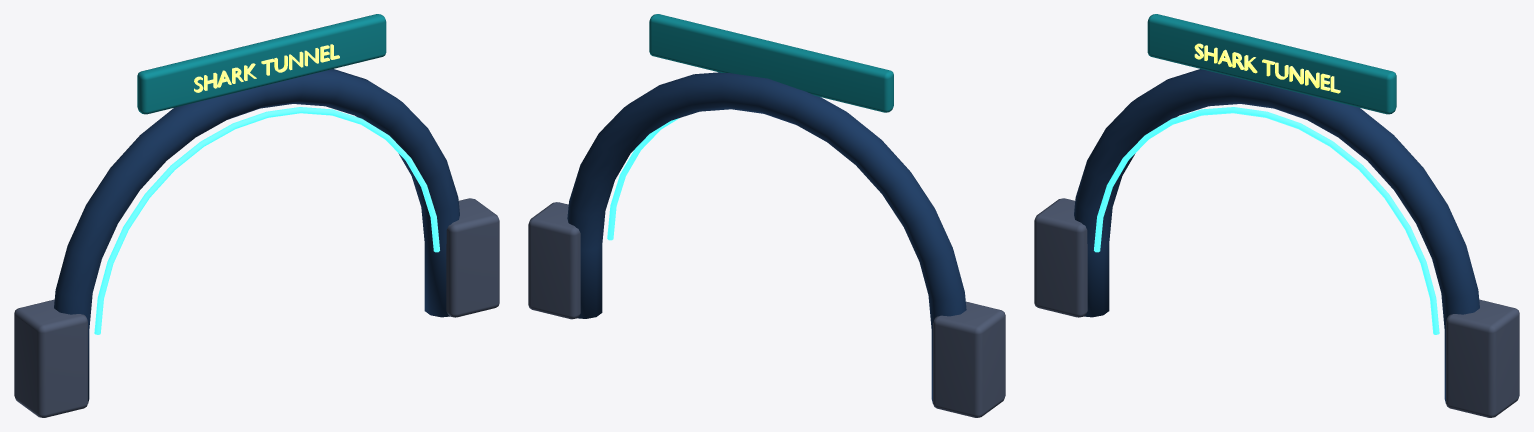
The model's file is aqua_tunnel_mouth.glb.
3 views of the same model, side by side, from view 1: azimuth 30°, elevation 25°; view 2: azimuth 150°, elevation 25°; view 3: azimuth 330°, elevation 25° (orthographic).
Visible parts, largest first — view 1: TunnelMouth; view 2: TunnelMouth; view 3: TunnelMouth.
Boxes of the visible parts, <box> form: TunnelMouth: <box>14,14,499,417</box>; TunnelMouth: <box>528,14,1005,417</box>; TunnelMouth: <box>1034,14,1519,417</box>.
Size of the model in its own units: 8.3 by 5.4 by 0.9.
